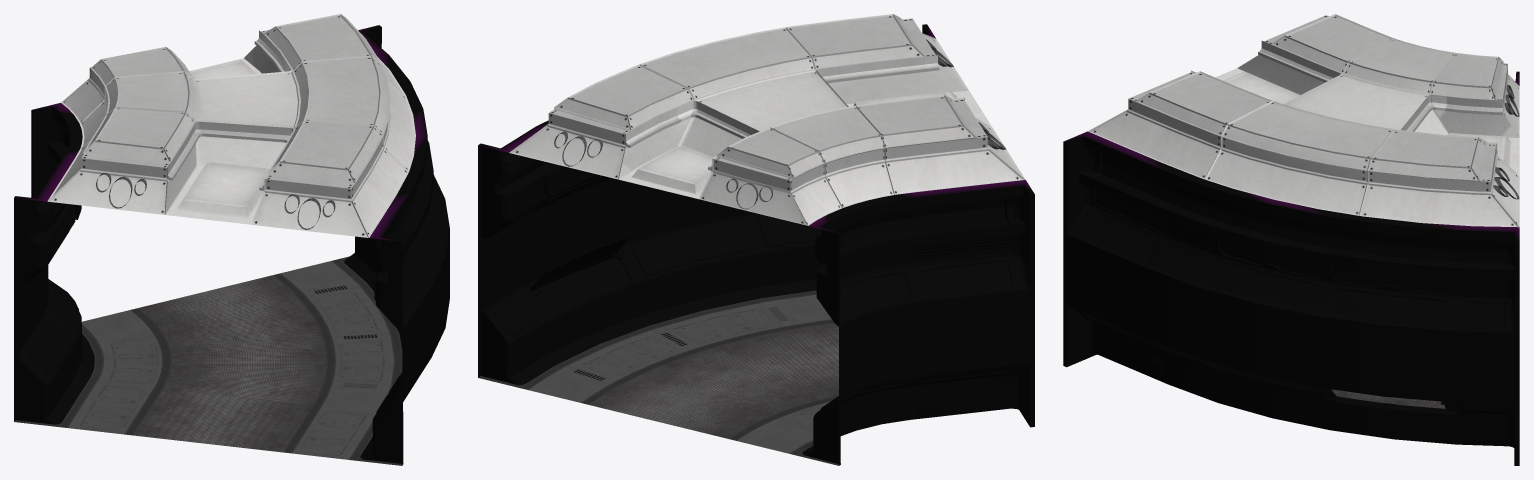
The model's file is HallwayCornerA.fbx.
3 renders of one model, left to right at view 1: azimuth 30°, elevation 25°; view 2: azimuth 150°, elevation 25°; view 3: azimuth 270°, elevation 25°, orthographic. The views are drawn at different scales.
Visible parts, largest first — view 1: HallwayCornerA001; view 2: HallwayCornerA001; view 3: HallwayCornerA001.
Boxes of the visible parts, box(x1,y1,x2,y2) form: HallwayCornerA001: box(14, 14, 449, 465); HallwayCornerA001: box(478, 14, 1034, 465); HallwayCornerA001: box(1063, 14, 1519, 465).
Size of the model in its own units: 842 by 478 by 737.
